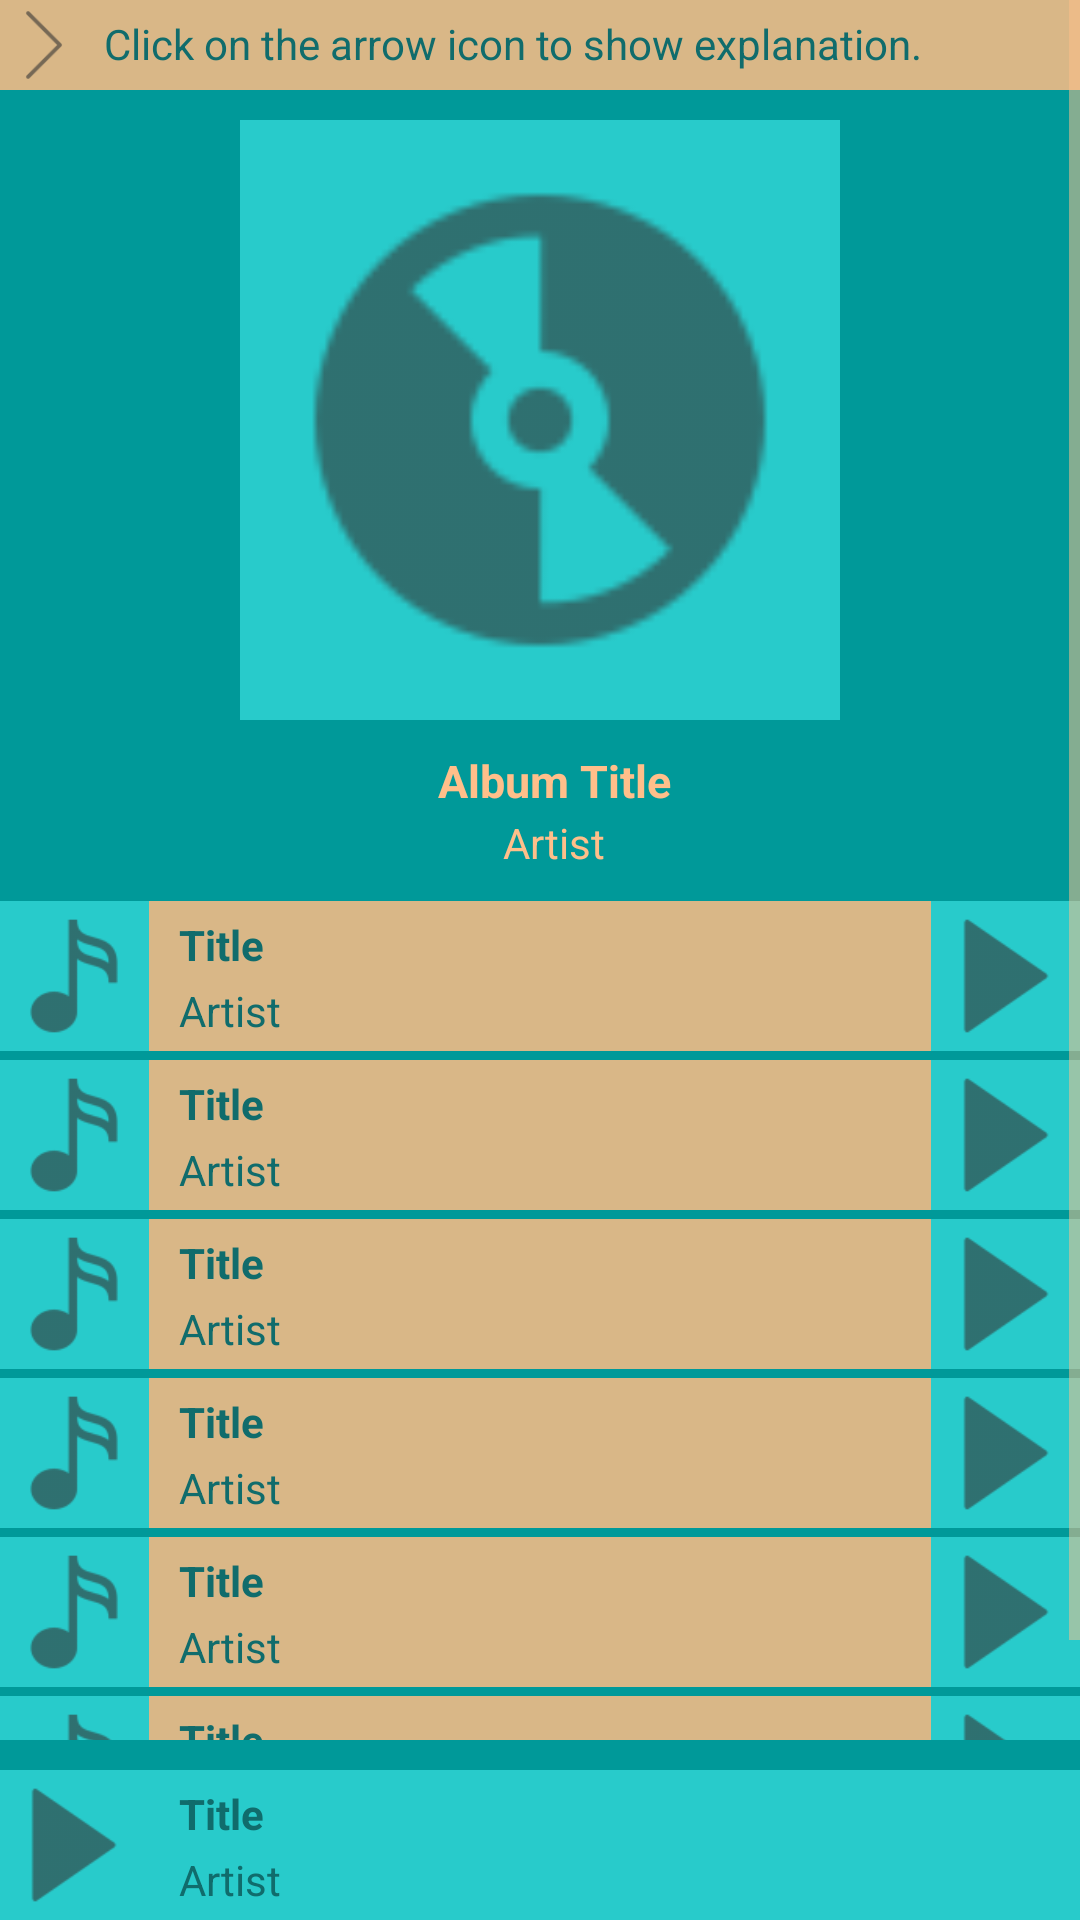

Icons on this 1080 x 1920 Android screen, each with its box as (x1, y1, x2, y2):
arrow side: (26, 11, 62, 79)
